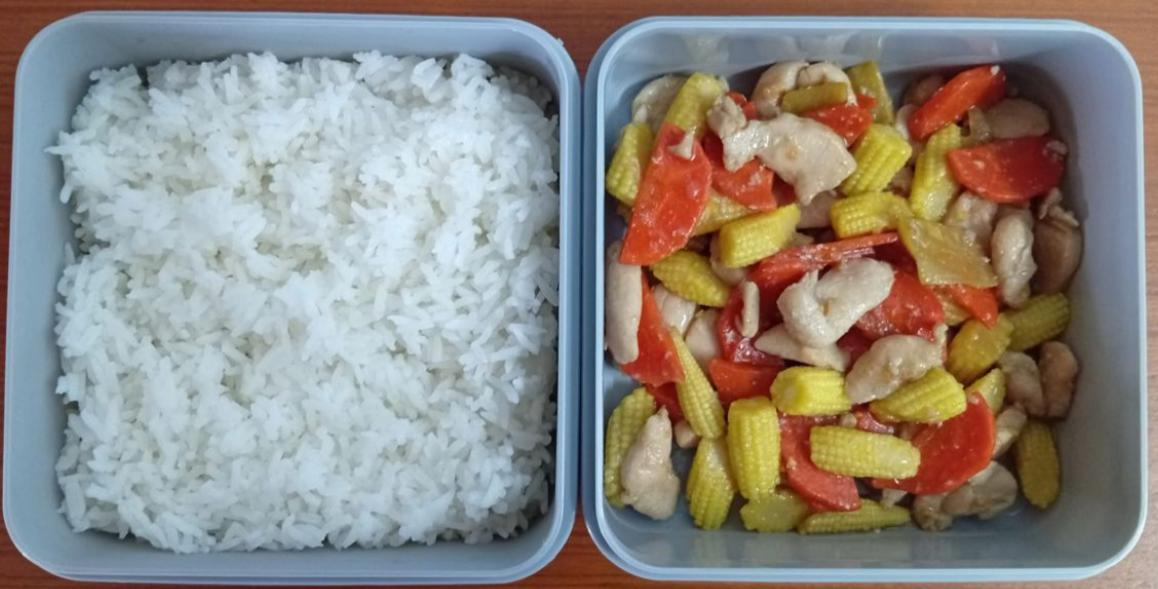daging: (654, 77, 1040, 510)
makanan_berpati: (101, 72, 508, 520)
